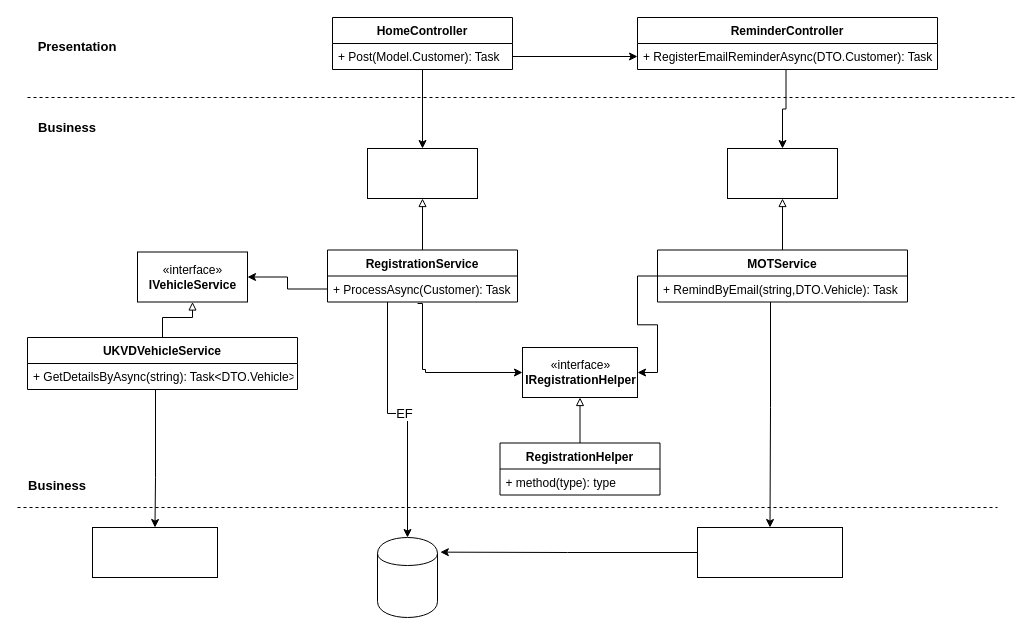
Some shapes in this 1036 by 635 pixel diagram are drawn without their labels. The centre of each missing label's shape, as x and y in pixels:
"Hangfire BackgroundJob" goes at (x=769, y=552).
"UK Vehicle Data API" goes at (x=155, y=552).
"«interface» IMOTService" goes at (x=782, y=173).
"«interface» IRegistrationService" goes at (x=422, y=173).
